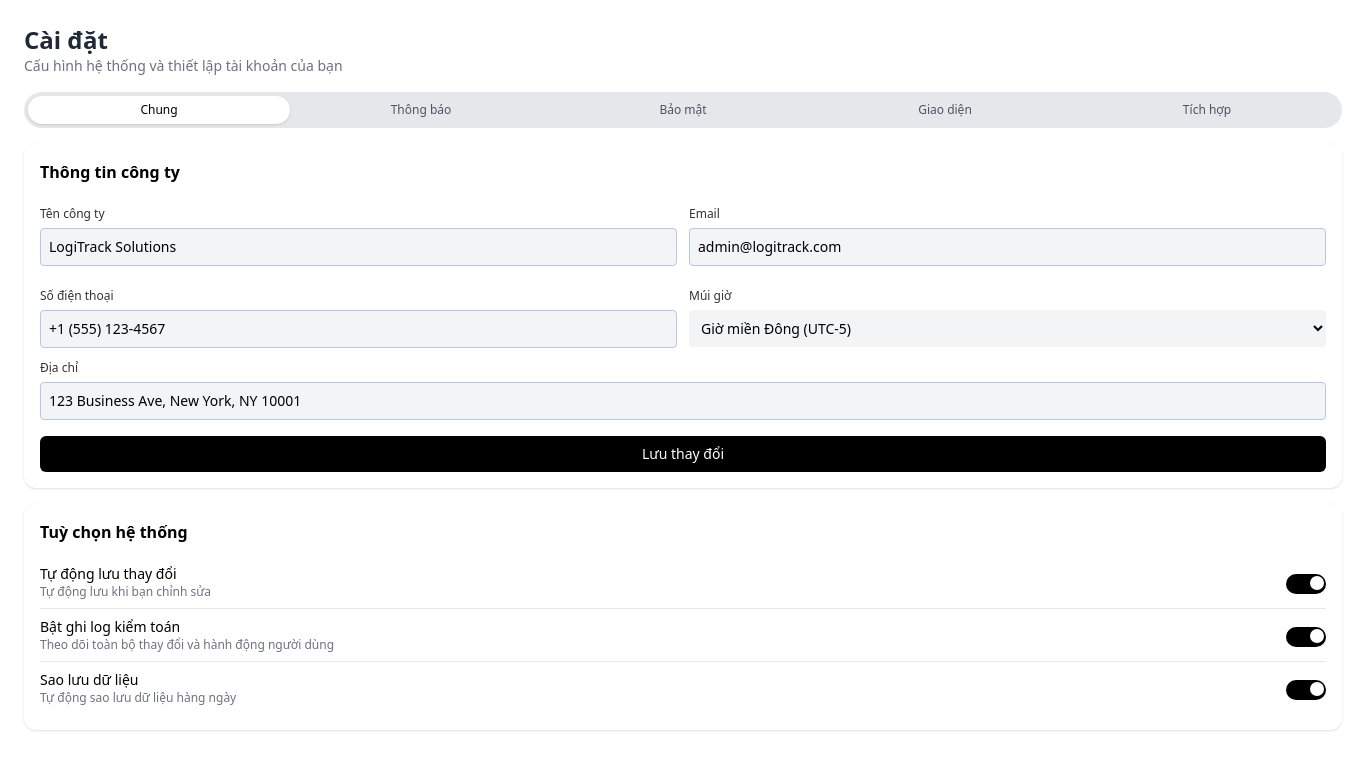
it: SettingsContent Component (Admin Settings) › nên chuyển sang tab Bảo mật khi người dùng click
Tìm nút tab Bảo mật và click
Click the button "Bảo mật".
click(683, 110)  # box 552,96 -> 814,124
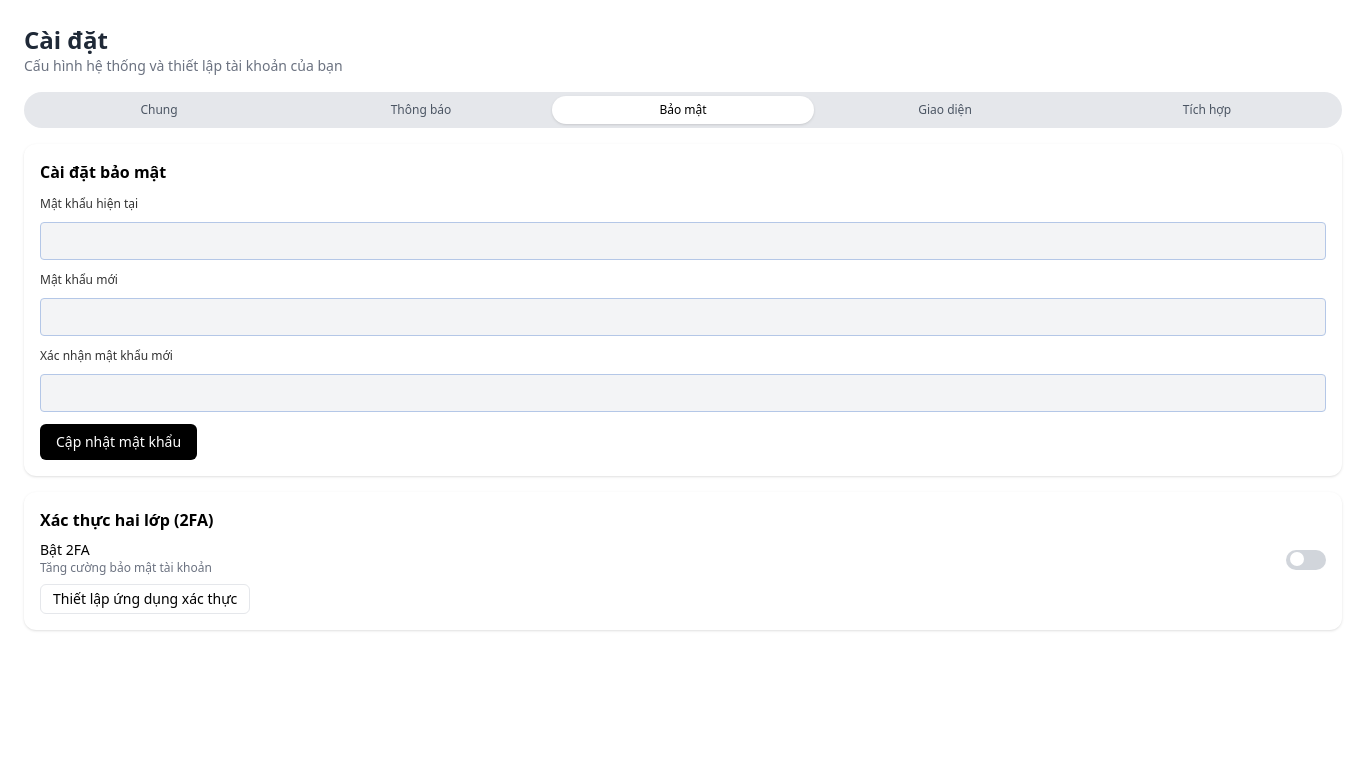
expect the heading "Cài đặt bảo mật" is shown: met, box 40,161 -> 166,183
expect the heading "Xác thực hai lớp (2FA)" is shown: met, box 40,509 -> 214,531
expect the text "Mật khẩu hiện tại" is shown: met, box 40,195 -> 138,212
